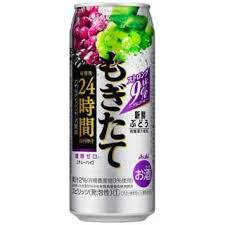beer: (65, 2, 160, 223)
